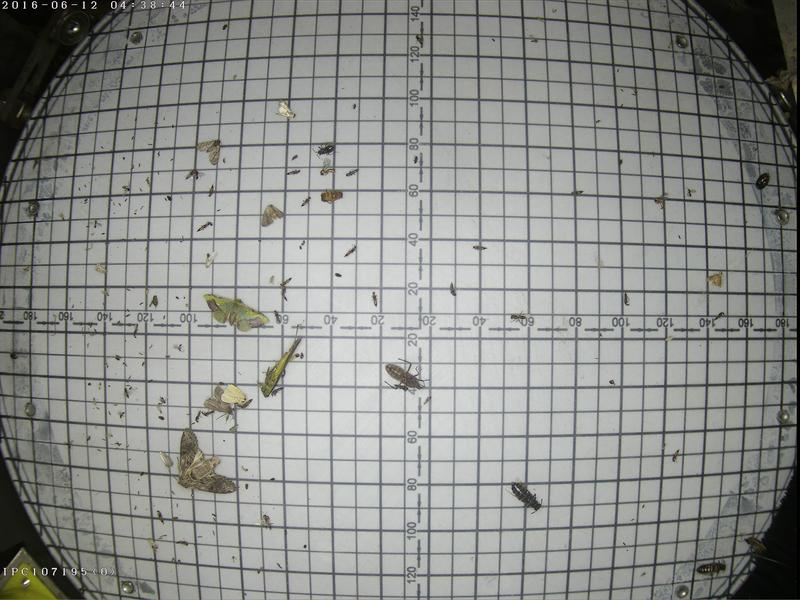Rice Leaf Roller: (275, 96, 294, 116)
